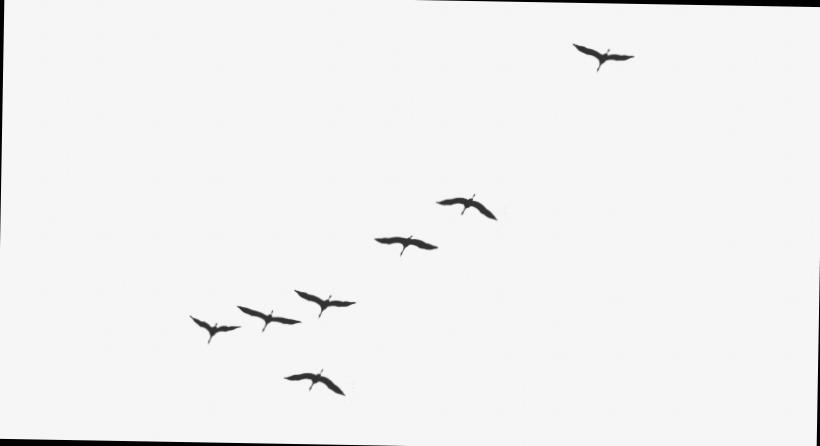bird: (556, 30, 648, 84), (425, 182, 507, 230), (281, 274, 360, 321), (230, 295, 309, 340), (354, 229, 449, 264), (270, 362, 348, 402), (182, 310, 240, 346)
